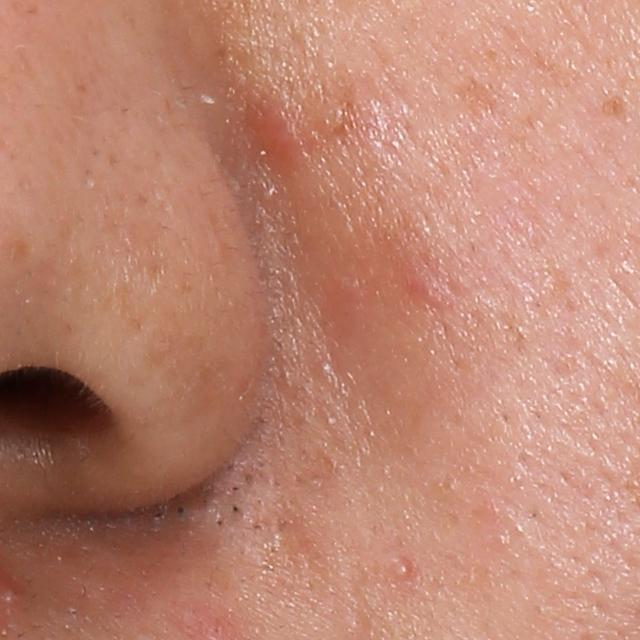comedo: (175, 503, 187, 517), (214, 519, 223, 528)
melasma: (450, 77, 501, 123), (596, 95, 631, 132)
